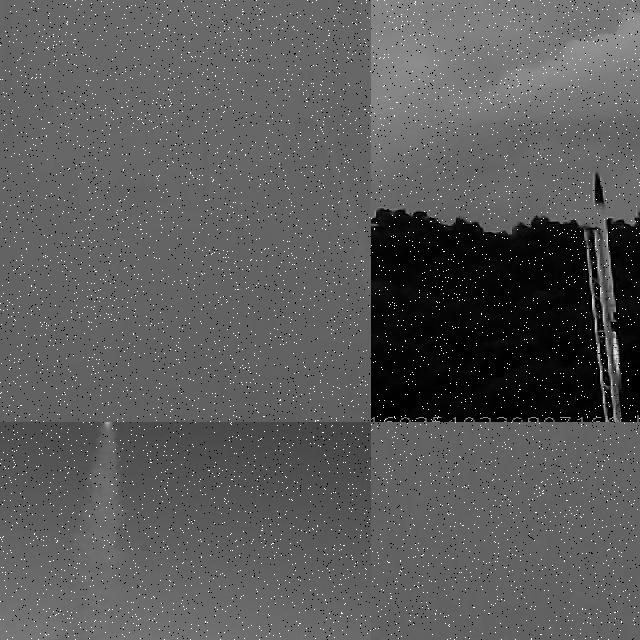Rocket: (591, 172, 621, 332), (308, 94, 310, 103)
